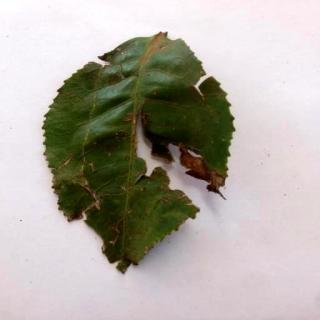Algal Leaf: (44, 32, 237, 276)
